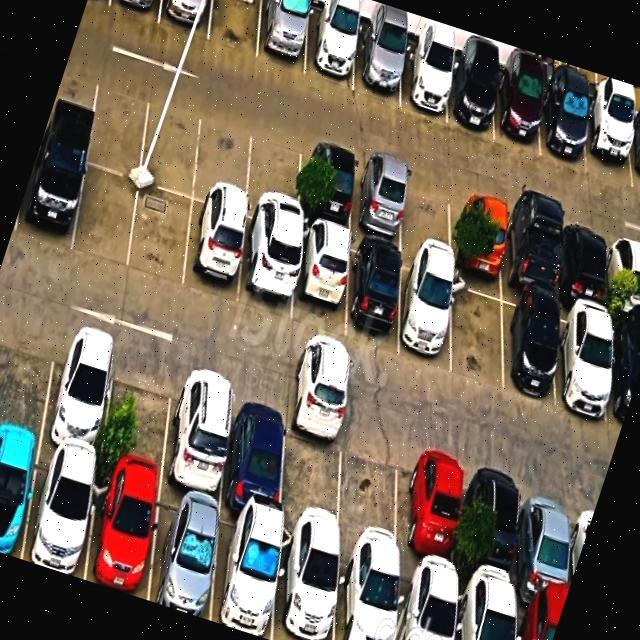empty: (101, 343, 176, 486), (340, 420, 406, 562), (280, 402, 344, 543), (0, 305, 59, 443), (139, 88, 205, 199), (72, 165, 140, 269), (86, 70, 151, 178), (128, 183, 192, 290), (245, 122, 303, 233), (193, 106, 252, 215), (452, 273, 503, 390), (403, 168, 452, 260), (208, 0, 262, 58)
occupied: (40, 322, 117, 464), (162, 363, 234, 505), (22, 447, 97, 580), (148, 488, 220, 621), (86, 468, 158, 600), (221, 382, 289, 521), (210, 508, 280, 640), (400, 437, 461, 581), (466, 457, 522, 598), (15, 144, 87, 252), (273, 527, 338, 640), (518, 474, 570, 611), (292, 222, 350, 338), (183, 201, 245, 305), (556, 300, 609, 421), (345, 238, 401, 352), (399, 255, 450, 373), (502, 288, 555, 401), (238, 220, 295, 323), (336, 549, 398, 640), (299, 138, 356, 233), (505, 201, 556, 298), (0, 436, 40, 559), (353, 154, 404, 247), (454, 185, 503, 279), (304, 7, 358, 91), (397, 564, 455, 640), (584, 98, 632, 188), (494, 68, 542, 156), (540, 82, 586, 172), (447, 56, 495, 140), (562, 217, 606, 308), (257, 0, 309, 75), (400, 41, 447, 123), (353, 27, 401, 105), (610, 316, 640, 431), (457, 582, 514, 640), (608, 231, 640, 318), (159, 0, 213, 40), (515, 599, 562, 640), (109, 0, 162, 23), (627, 111, 640, 191)
